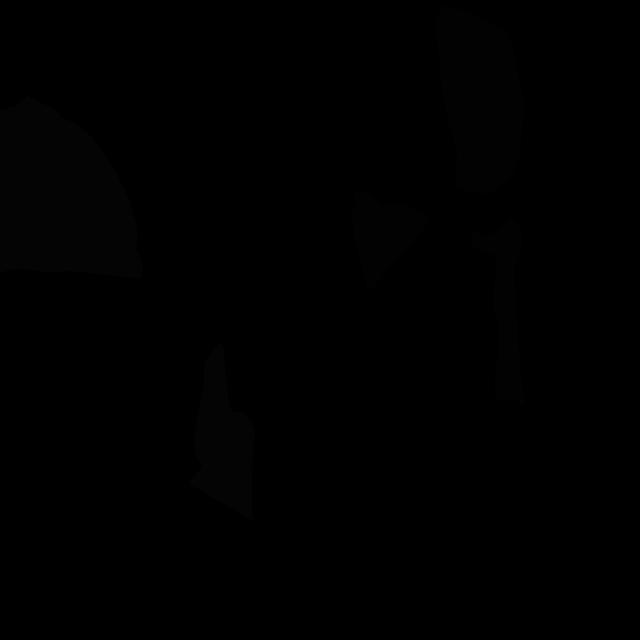cardboard: (435, 6, 524, 195), (470, 217, 525, 407), (352, 190, 433, 289)
soft_plastic: (0, 96, 143, 279), (188, 341, 255, 522)
